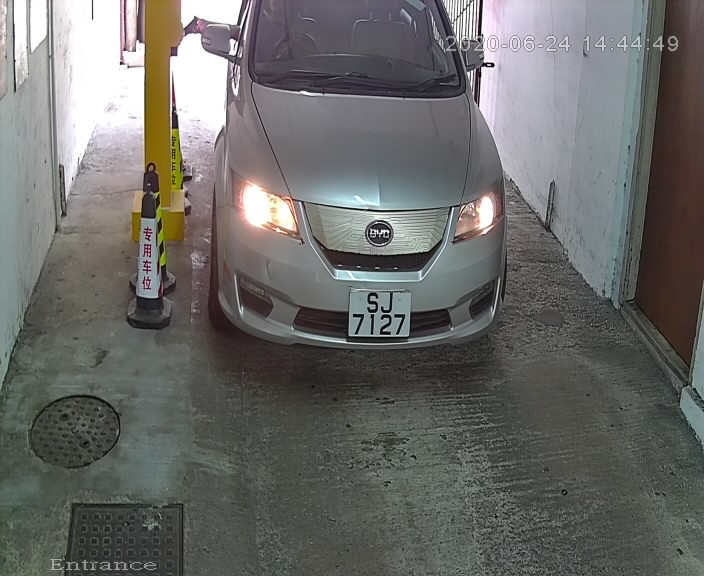Car: (155, 1, 536, 383)
License Plate: (345, 285, 416, 345)
